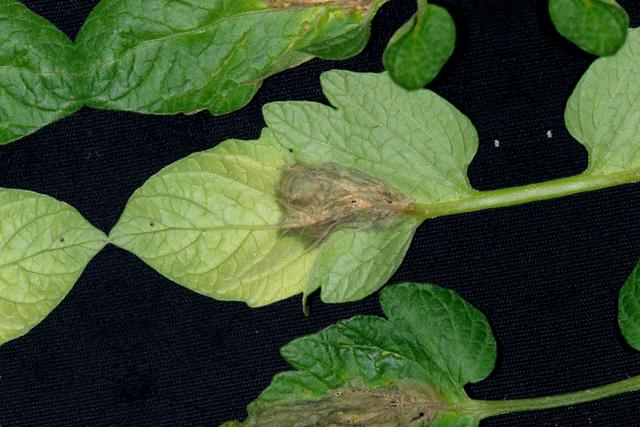Tomato mold leaf: (94, 43, 533, 336), (136, 274, 585, 427), (62, 0, 511, 137)
